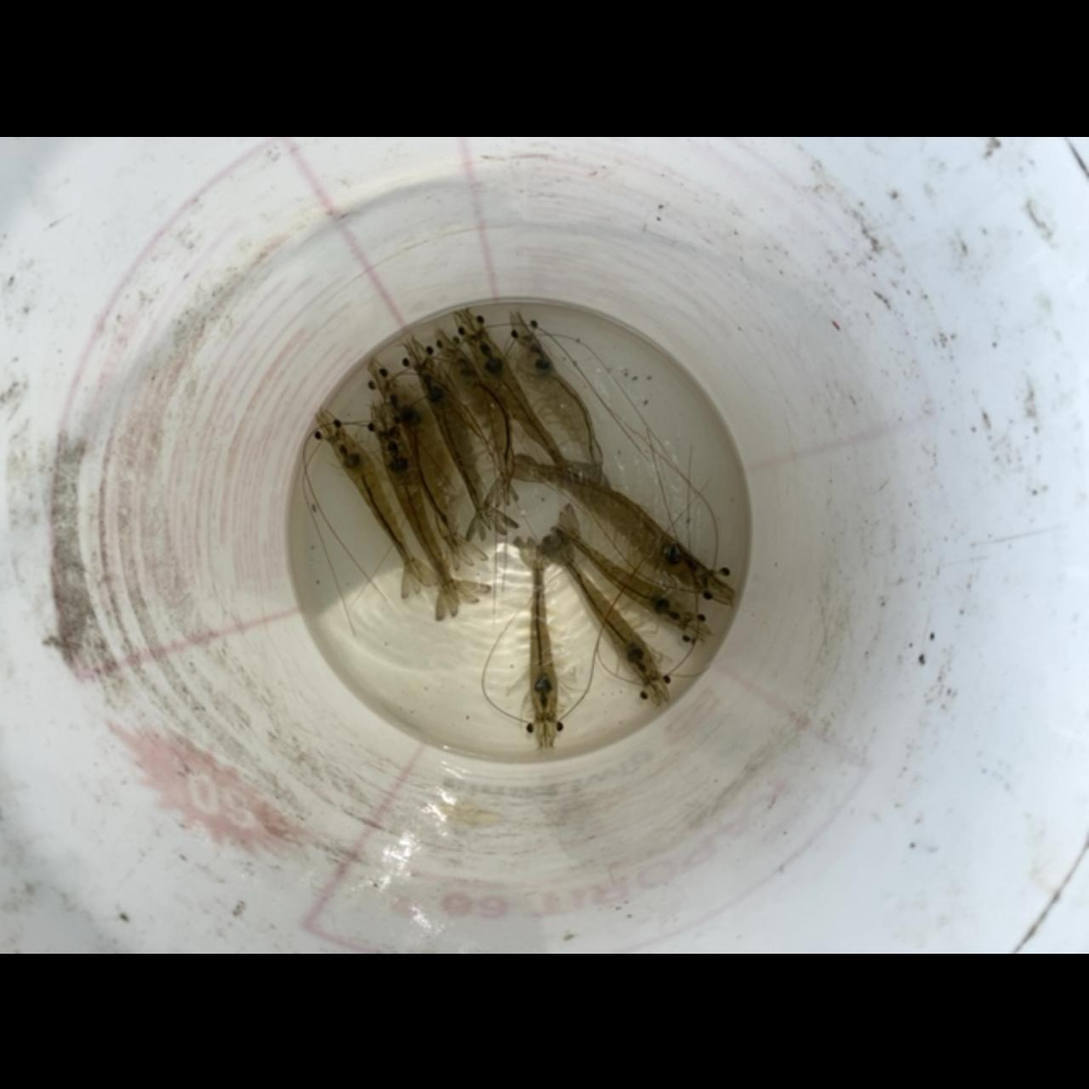top_shrimp: (518, 461, 713, 590), (470, 331, 576, 485), (555, 540, 659, 685), (557, 522, 691, 632), (380, 432, 462, 605), (518, 331, 606, 492), (333, 430, 423, 583), (385, 386, 460, 559), (418, 359, 492, 529), (453, 347, 515, 499), (528, 539, 558, 722)
